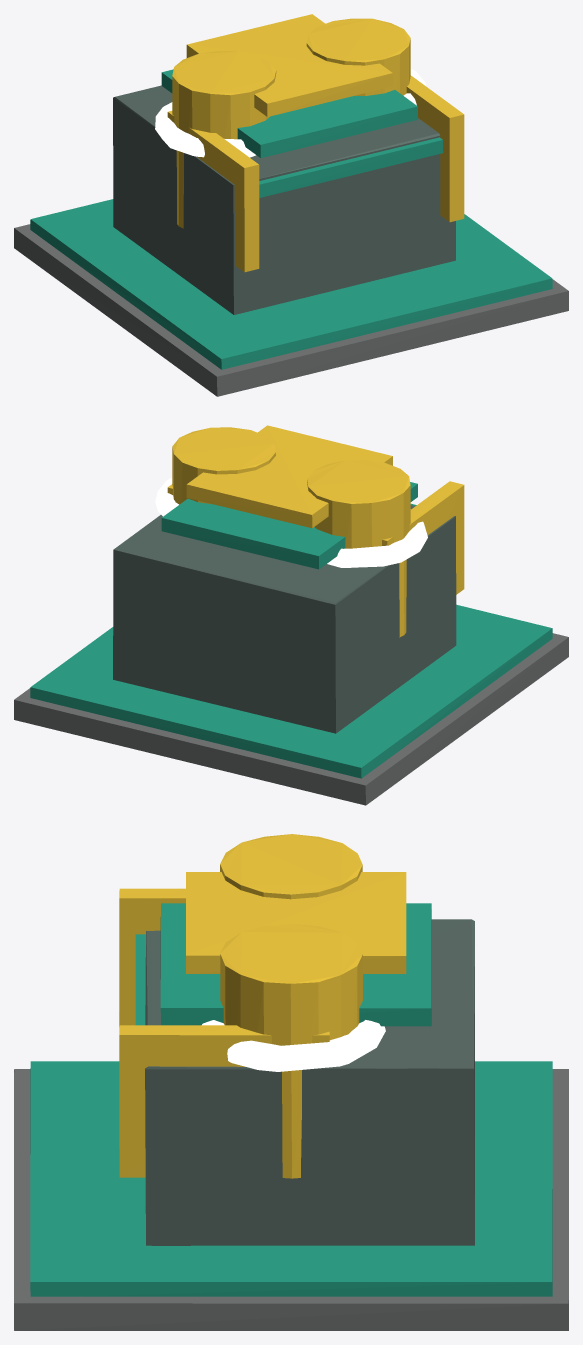
File: SM_Coalition_CO_PowerPlant_LOD2.fbx
3 views of the same model, one above another, from view 1: azimuth 30°, elevation 25°; view 2: azimuth 150°, elevation 25°; view 3: azimuth 270°, elevation 25° (orthographic). The views are drawn at different scales.
Visible parts, largest first — view 1: LOD02_SM_Coalition_CO_PowerPlant; view 2: LOD02_SM_Coalition_CO_PowerPlant; view 3: LOD02_SM_Coalition_CO_PowerPlant.
Boxes of the visible parts, x1,y1,x2,y2 form: LOD02_SM_Coalition_CO_PowerPlant: (14,14,568,396); LOD02_SM_Coalition_CO_PowerPlant: (14,425,568,805); LOD02_SM_Coalition_CO_PowerPlant: (14,834,568,1330).
Bounding box in the file's own units: 597 × 597 × 362.
